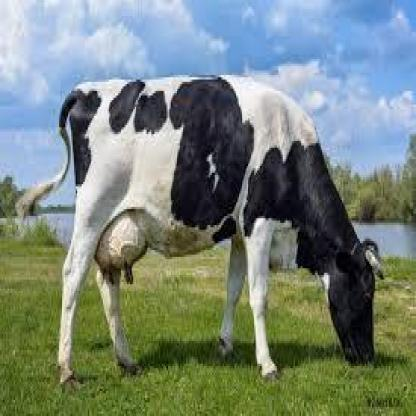cow: (60, 78, 376, 386)
